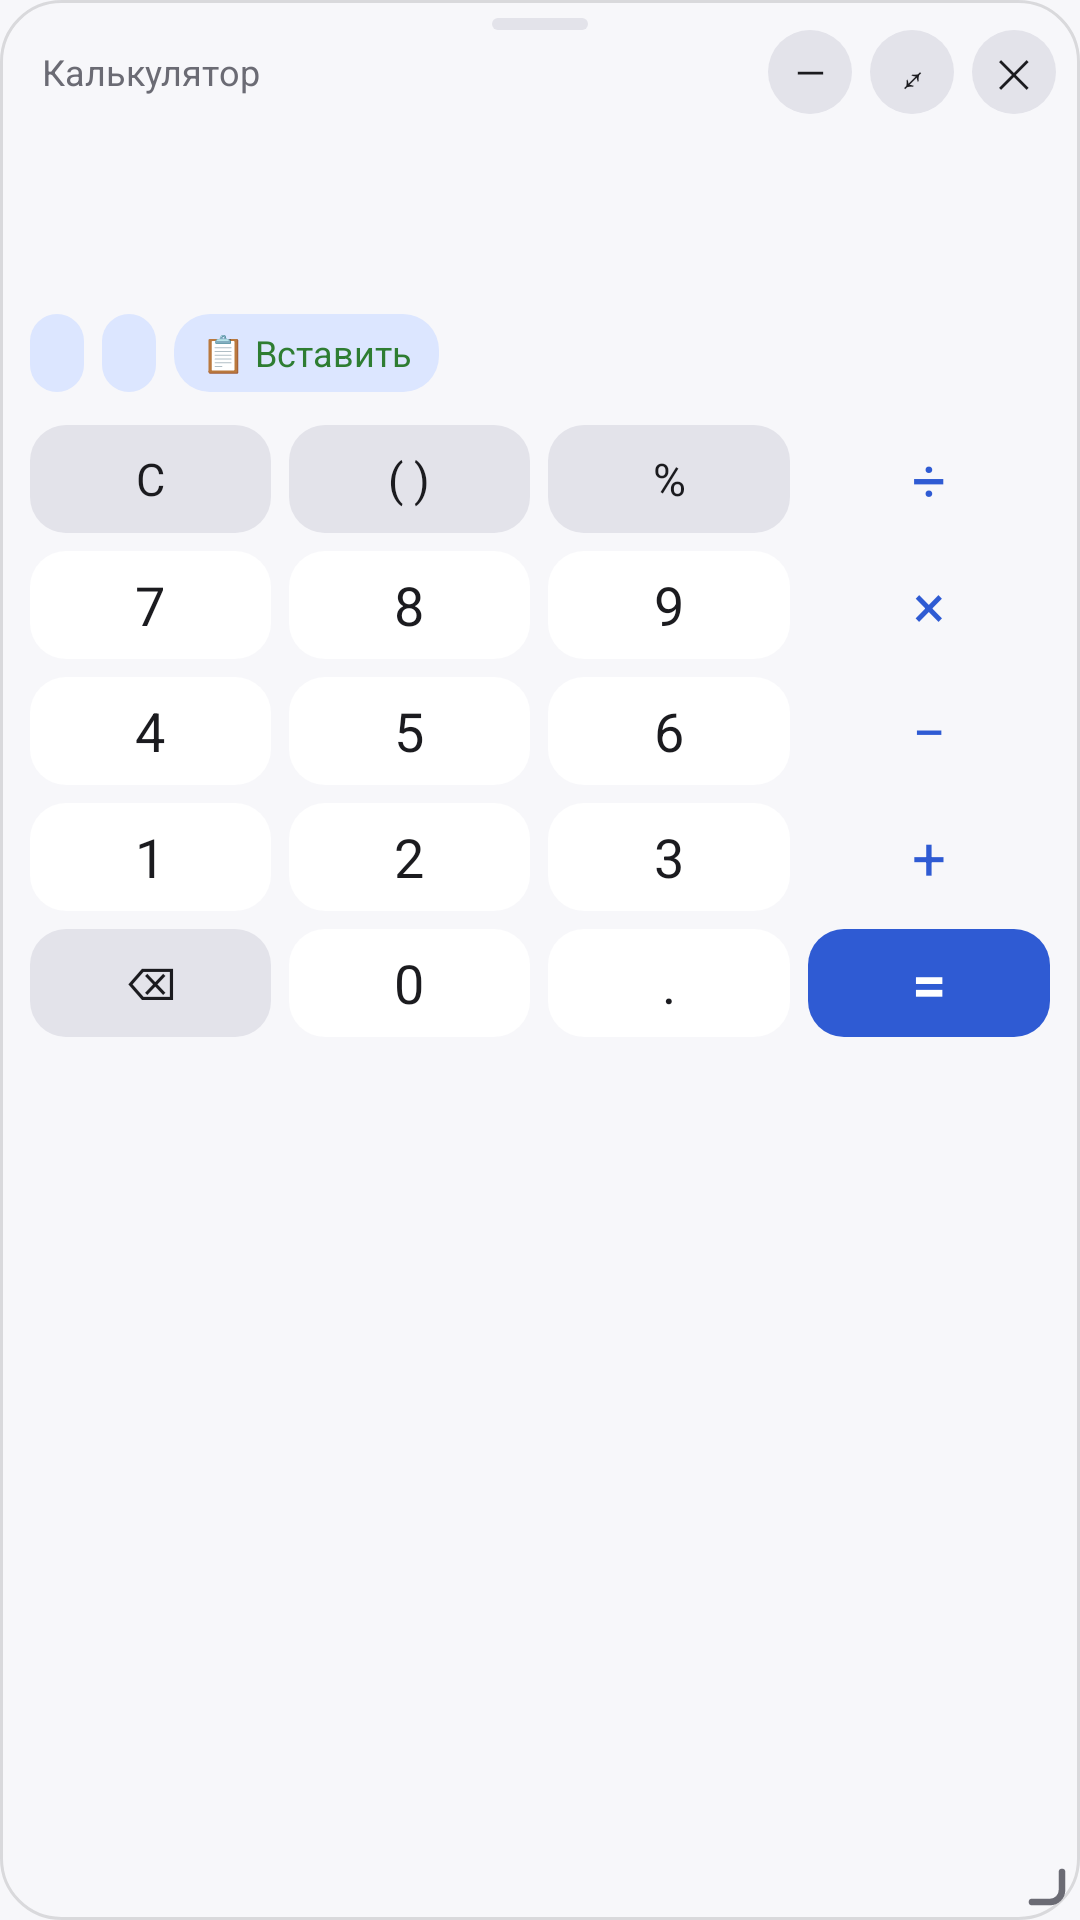

Named icons in this screenshot (1080*1920) and their centers, (x,y):
floating resize: (1038,1878)
